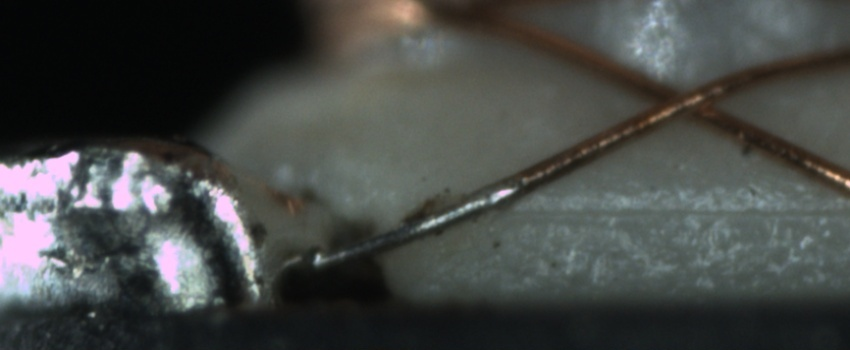CL: (640, 69, 739, 129)
DL: (494, 181, 850, 245)
TS: (313, 179, 523, 272)
